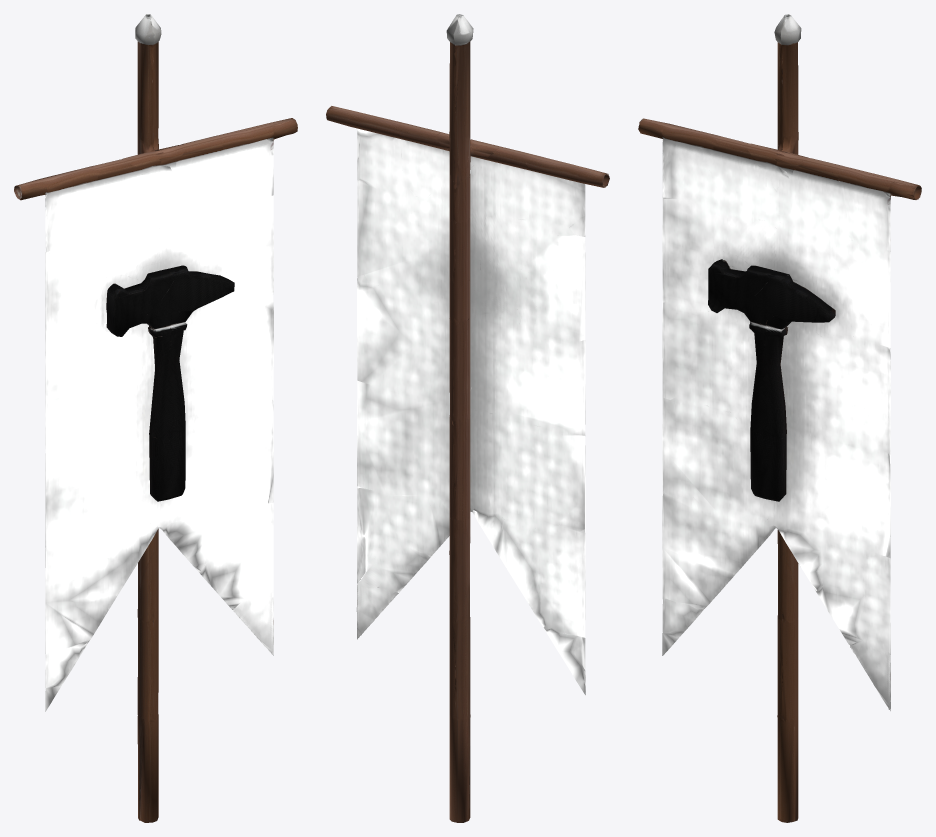
The model's file is build_flag_lite.glb.
3 views of the same model, side by side, from view 1: azimuth 30°, elevation 25°; view 2: azimuth 150°, elevation 25°; view 3: azimuth 330°, elevation 25° (orthographic).
Visible parts, largest first — view 1: Mesh_0; view 2: Mesh_0; view 3: Mesh_0.
Boxes of the visible parts, x1=… form: Mesh_0: x1=14, y1=14, x2=297, y2=822; Mesh_0: x1=326, y1=14, x2=609, y2=822; Mesh_0: x1=638, y1=14, x2=921, y2=822.
Bounding box in the file's own units: 0.6845 × 1.9 × 0.1298.
Materials: 1 (1 with a texture image).
